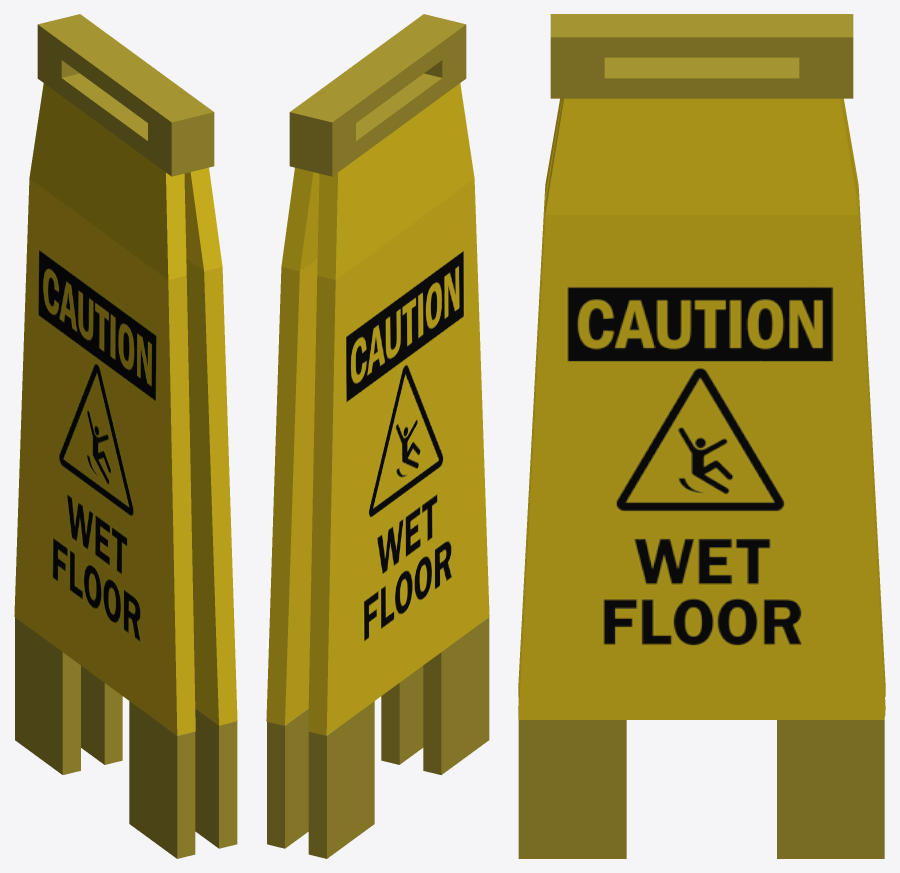
Rendered from Wet Floor Sign.fbx.
3 renders of one model, left to right at view 1: azimuth 30°, elevation 25°; view 2: azimuth 150°, elevation 25°; view 3: azimuth 270°, elevation 25°, orthographic. The views are drawn at different scales.
Visible parts, largest first — view 1: Sign_Boards_Back, Sign_Boards_Front, Sign_Handle, Sign_Boards_Back_Leg1., Sign_Boards_Back_Leg2, Sign_Boards_Front_Leg1, Sign_Boards_Front_Leg2; view 2: Sign_Boards_Back, Sign_Boards_Front, Sign_Handle, Sign_Boards_Back_Leg2, Sign_Boards_Back_Leg1., Sign_Boards_Front_Leg2, Sign_Boards_Front_Leg1; view 3: Sign_Boards_Front, Sign_Handle, Sign_Boards_Front_Leg1, Sign_Boards_Front_Leg2, Sign_Boards_Back.
Part boxes in pixels (box(x1,y1,x2,y2)): Sign_Boards_Back: box(14, 83, 195, 735); Sign_Boards_Front: box(184, 167, 237, 725); Sign_Handle: box(37, 14, 214, 176); Sign_Boards_Back_Leg1.: box(129, 701, 195, 858); Sign_Boards_Back_Leg2: box(15, 617, 80, 774); Sign_Boards_Front_Leg1: box(195, 708, 237, 848); Sign_Boards_Front_Leg2: box(81, 666, 122, 764); Sign_Boards_Back: box(308, 83, 489, 735); Sign_Boards_Front: box(266, 167, 319, 725); Sign_Handle: box(289, 14, 466, 176); Sign_Boards_Back_Leg2: box(308, 701, 374, 858); Sign_Boards_Back_Leg1.: box(423, 617, 489, 774); Sign_Boards_Front_Leg2: box(267, 709, 308, 848); Sign_Boards_Front_Leg1: box(381, 666, 423, 764); Sign_Boards_Front: box(518, 98, 885, 719); Sign_Handle: box(550, 14, 853, 98); Sign_Boards_Front_Leg1: box(518, 720, 626, 858); Sign_Boards_Front_Leg2: box(777, 720, 884, 858); Sign_Boards_Back: box(518, 98, 885, 696).
Bounding box in the file's own units: 20.97 × 241 × 98.19.
